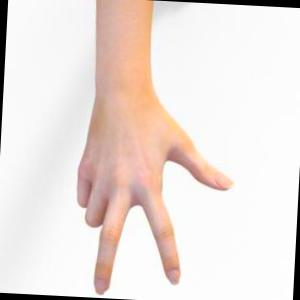scissors: (77, 0, 233, 294)
